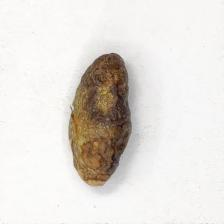NG: (68, 52, 130, 186)
